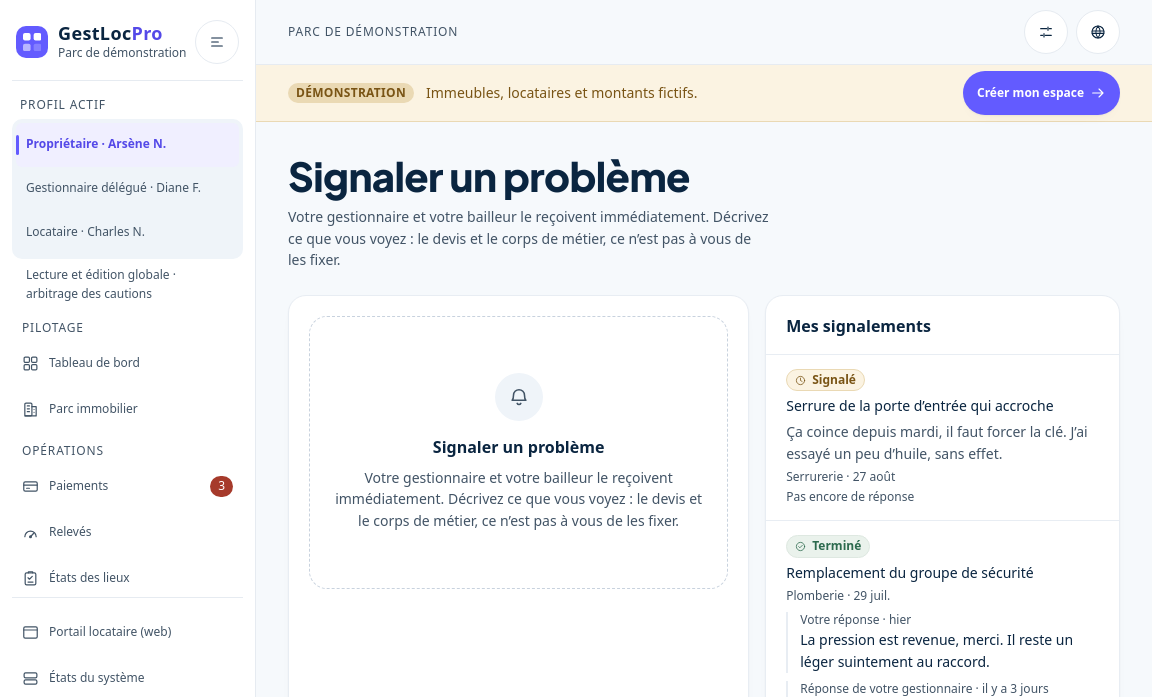
it: écran Signaler › est proposé au locataire, et liste SES signalements
Click the radio button labelled "Locataire · Charles N." at (85, 232), box 26,223 -> 145,240
(page scrolled)
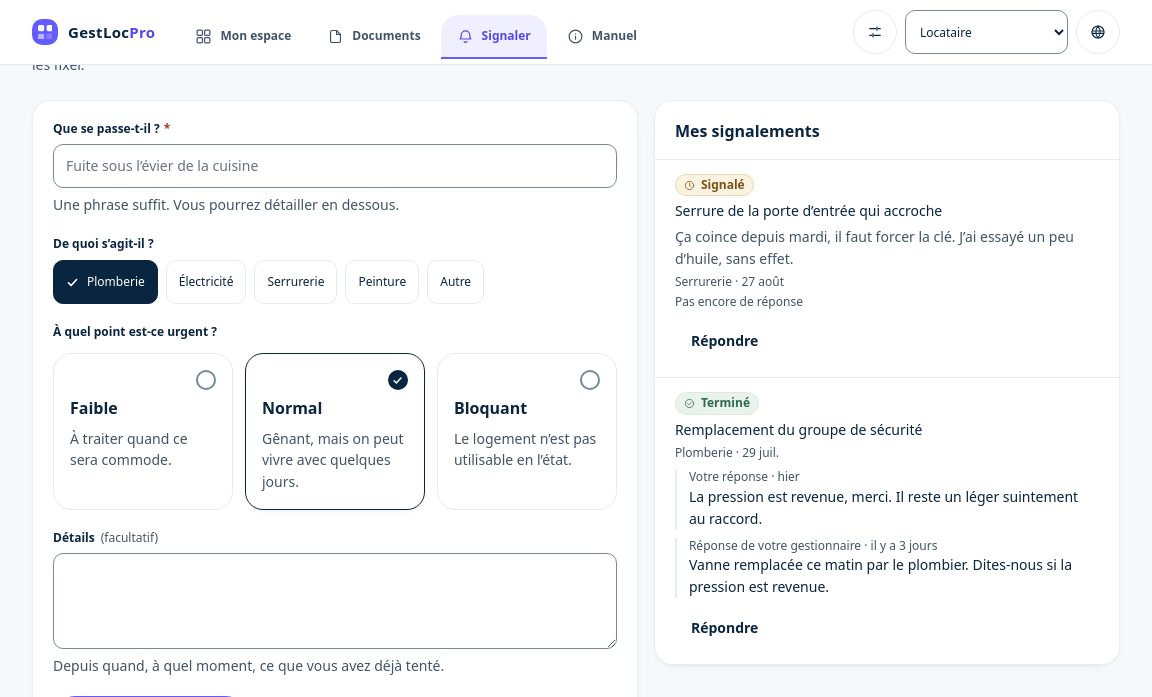
Check: the element "De quoi s’agit-il" is shown, box 53,234 -> 484,304
Check: the element "À quel point est-ce urgent" is shown, box 53,324 -> 617,510
